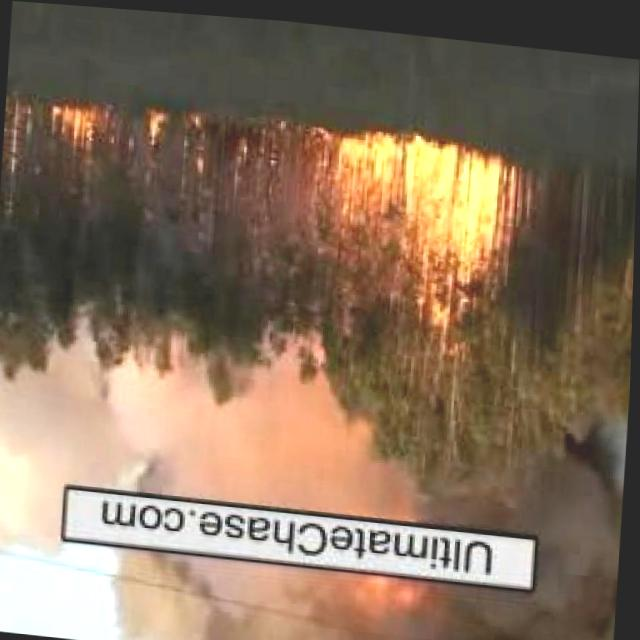Fire: (301, 117, 526, 330), (140, 98, 215, 183), (44, 93, 100, 159)
Smoke: (0, 352, 630, 537), (97, 538, 619, 640)
